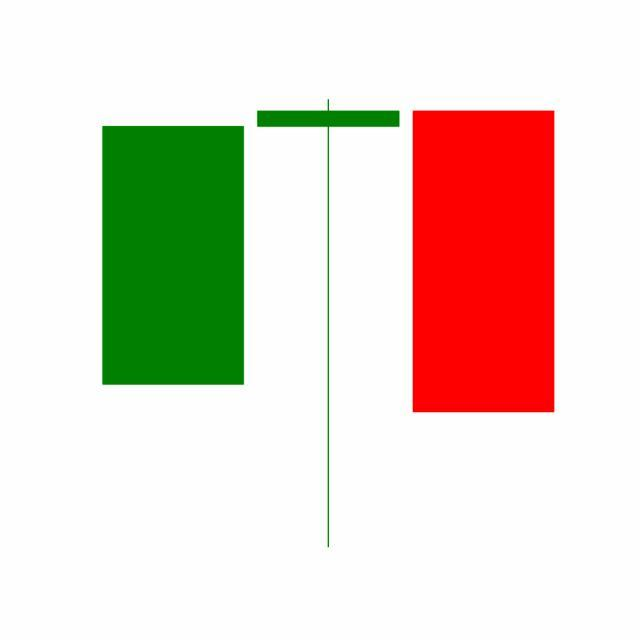Hammer: (250, 95, 407, 553)
